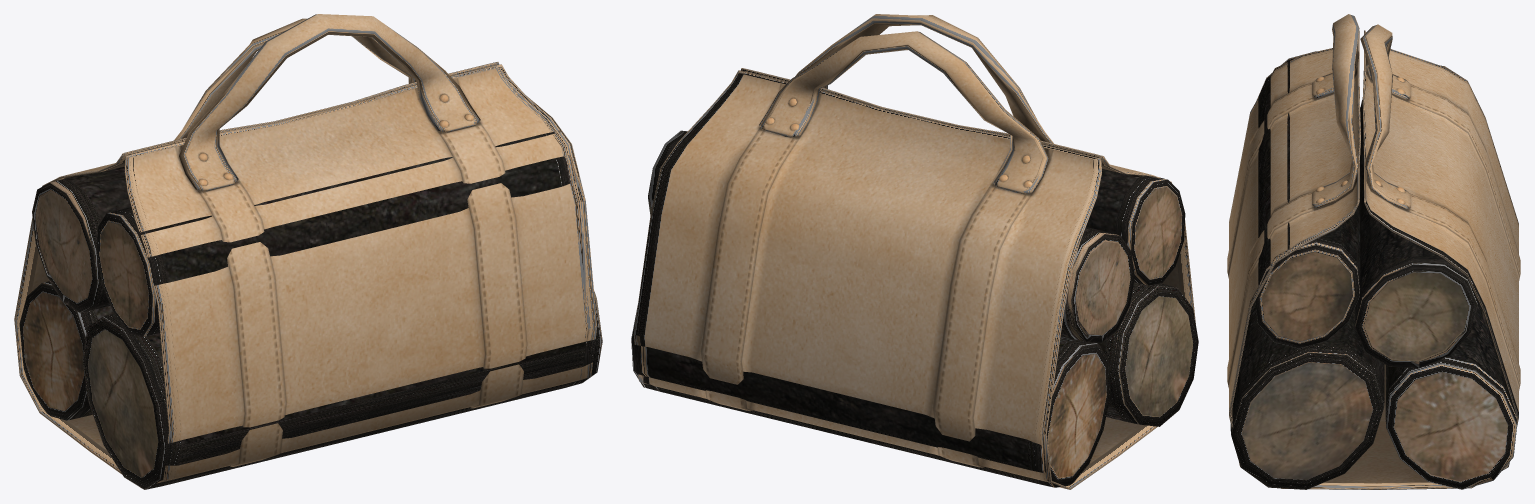
Rendered from firewood.fbx.
3 renders of one model, left to right at view 1: azimuth 30°, elevation 25°; view 2: azimuth 150°, elevation 25°; view 3: azimuth 270°, elevation 25°, orthographic. The views are drawn at different scales.
Visible parts, largest first — view 1: 12302_Firewood_Carrier_v1_l3; view 2: 12302_Firewood_Carrier_v1_l3; view 3: 12302_Firewood_Carrier_v1_l3.
Part boxes in pixels (x1,y1,x2,y2): 12302_Firewood_Carrier_v1_l3: (14,14,602,489); 12302_Firewood_Carrier_v1_l3: (631,14,1198,489); 12302_Firewood_Carrier_v1_l3: (1227,14,1520,489).
Size of the model in its own units: 1496 by 1287 by 926.
